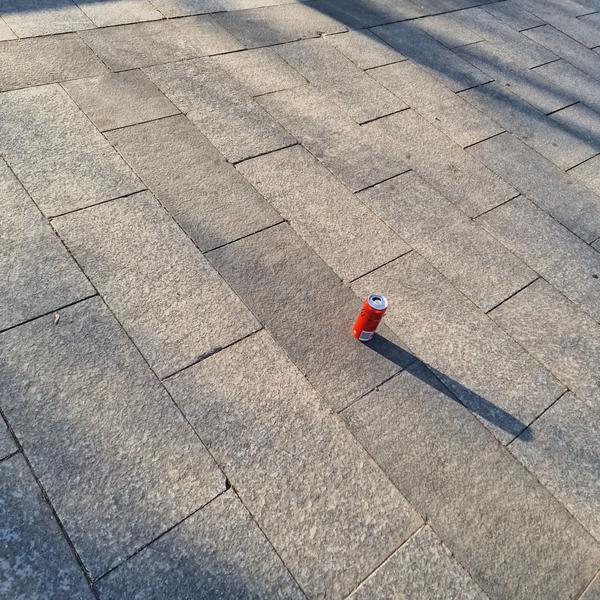can: (348, 289, 392, 346)
